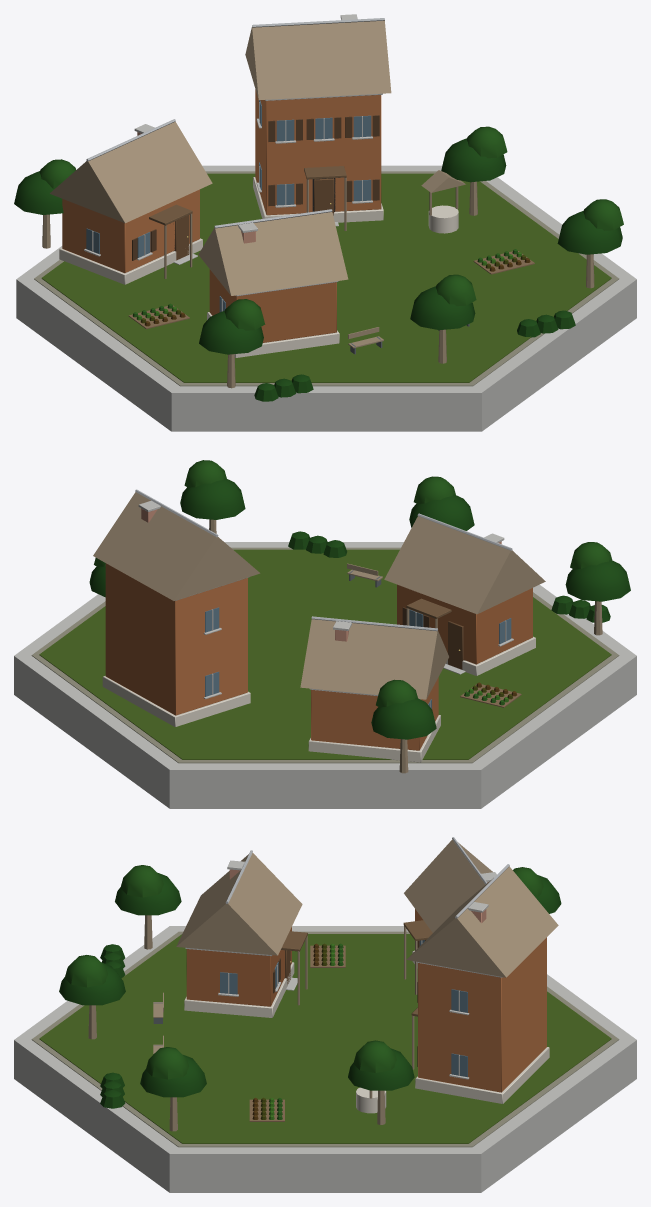
Rendered from cottage_africa.glb.
3 renders of one model, top to bottom at view 1: azimuth 30°, elevation 25°; view 2: azimuth 150°, elevation 25°; view 3: azimuth 270°, elevation 25°, orthographic.
Parts seen in each view (by area): view 1: turf, wood, wall_concrete, plaster, leaf, stone, pavers, glass, metal, earth; view 2: turf, wall_concrete, wood, plaster, leaf, stone, pavers, glass, metal; view 3: turf, wall_concrete, wood, plaster, leaf, pavers, stone, glass, earth, metal.
Boxes of the visible parts, x1,y1,x2,y2 form: turf: (41,173,611,382); wood: (42,20,594,388); wall_concrete: (16,14,636,431); plaster: (62,89,381,342); leaf: (14,126,623,401); stone: (59,177,458,357); pavers: (34,171,619,386); glass: (86,100,371,312); metal: (86,18,384,228); earth: (128,251,534,329); turf: (39,549,611,759); wall_concrete: (14,500,636,808); wood: (93,492,602,773); plaster: (105,563,532,750); leaf: (89,460,630,739); stone: (102,636,535,762); pavers: (31,547,619,763); glass: (205,607,511,708); metal: (135,489,512,631); turf: (39,934,611,1143); wall_concrete: (14,860,636,1192); wood: (88,839,558,1131); plaster: (186,909,546,1092); leaf: (59,865,561,1119); pavers: (31,931,619,1147); stone: (184,950,549,1113); glass: (220,940,467,1077); earth: (249,945,345,1121); metal: (225,837,509,918).
Bounding box in the file's own units: 21.3 × 9.71 × 24.6.
